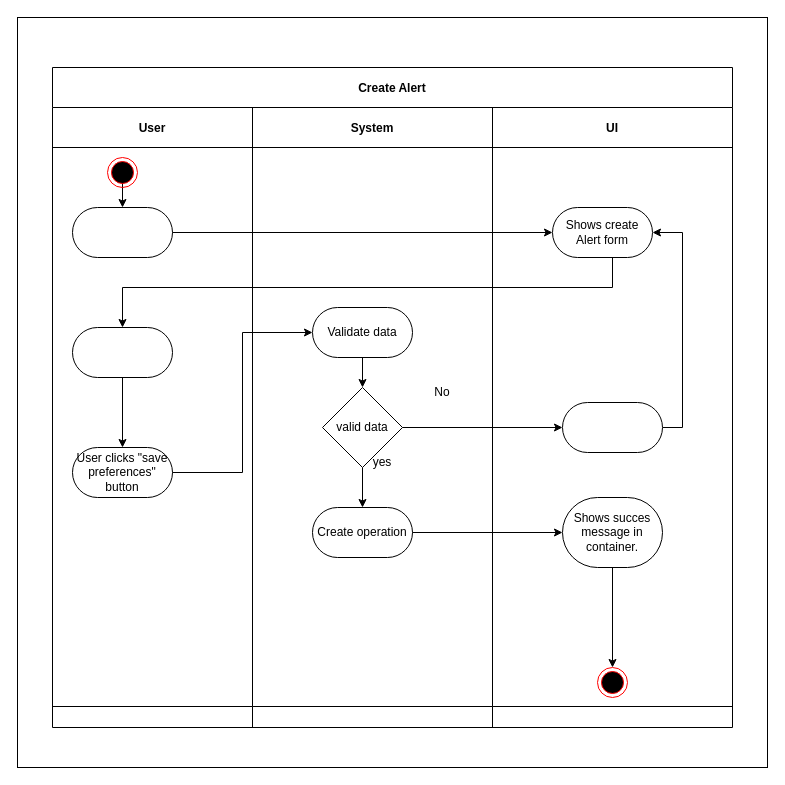
Image size: 785x785. Some labels were removed from this diagram. Each missing label, with the box of its shape:
Show error message: (562, 402, 662, 452)
User enters the required info: (72, 326, 172, 378)
User scrolls to "Set Reminder Alerts": (72, 206, 172, 258)
